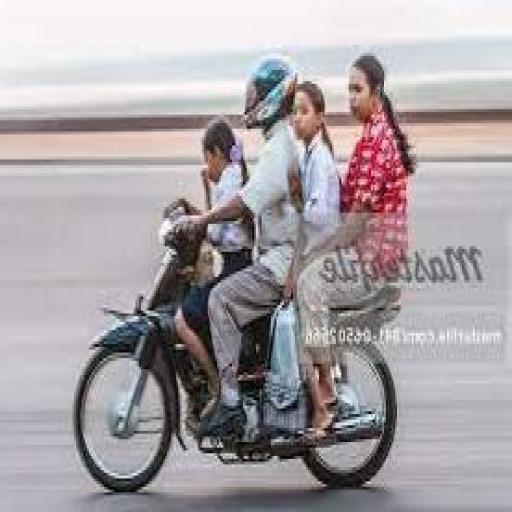helmet: (236, 48, 299, 158)
triple riding: (63, 31, 416, 512)
